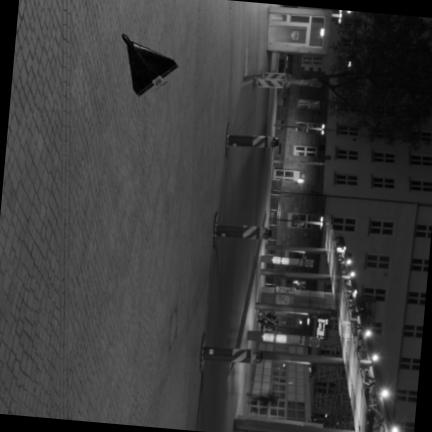Shahed: (121, 35, 177, 96)
